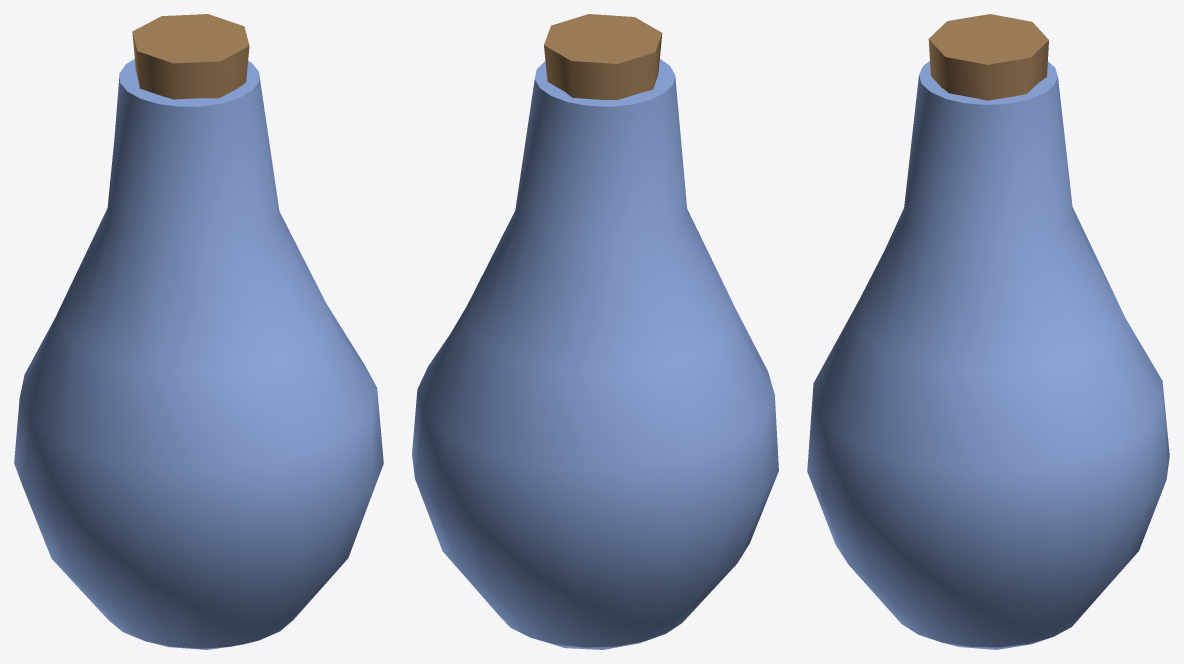
Rendered from Potion_Oval_Yellow_Model.fbx.
The picture shows the model from 3 angles, left to right: view 1: azimuth 30°, elevation 25°; view 2: azimuth 150°, elevation 25°; view 3: azimuth 270°, elevation 25°; orthographic projection.
Visible parts, largest first — view 1: Oval_Bottle, Oval_Cork1; view 2: Oval_Bottle, Oval_Cork1; view 3: Oval_Bottle, Oval_Cork1.
Boxes of the visible parts, box(x1,y1,x2,y2) form: Oval_Bottle: box(14, 59, 383, 649); Oval_Cork1: box(132, 14, 249, 99); Oval_Bottle: box(412, 59, 778, 649); Oval_Cork1: box(544, 14, 662, 99); Oval_Bottle: box(807, 61, 1169, 649); Oval_Cork1: box(928, 14, 1048, 100).
Size of the model in its own units: 0.254 by 0.4478 by 0.254.
